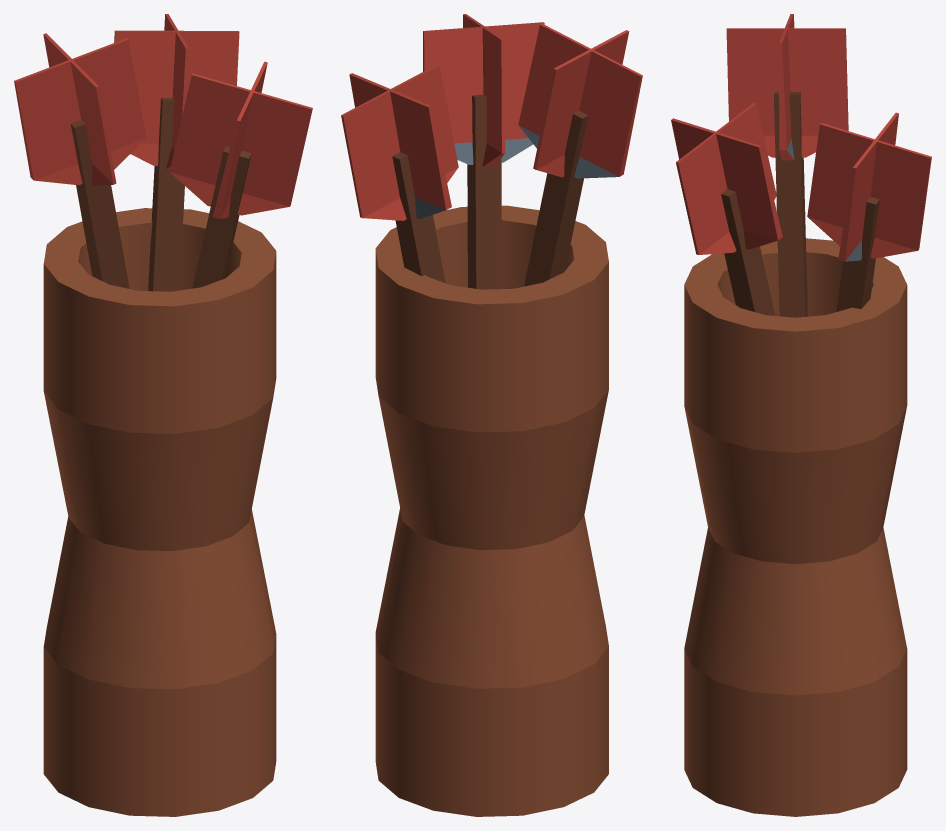
File: colchan.fbx
The picture shows the model from 3 angles, left to right: view 1: azimuth 30°, elevation 25°; view 2: azimuth 150°, elevation 25°; view 3: azimuth 270°, elevation 25°; orthographic projection. The views are drawn at different scales.
Visible parts, largest first — view 1: colchan; view 2: colchan; view 3: colchan.
Part boxes in pixels (x1,y1,x2,y2): colchan: (14,14,312,816); colchan: (341,14,642,816); colchan: (671,14,931,816).
Bounding box in the file's own units: 0.2703 × 0.7458 × 0.2492.
